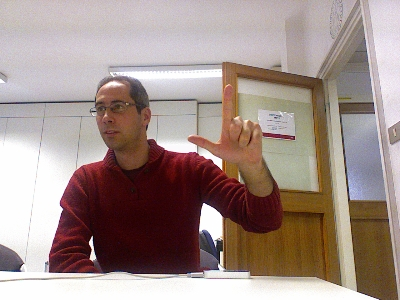枪: (186, 83, 263, 165)
